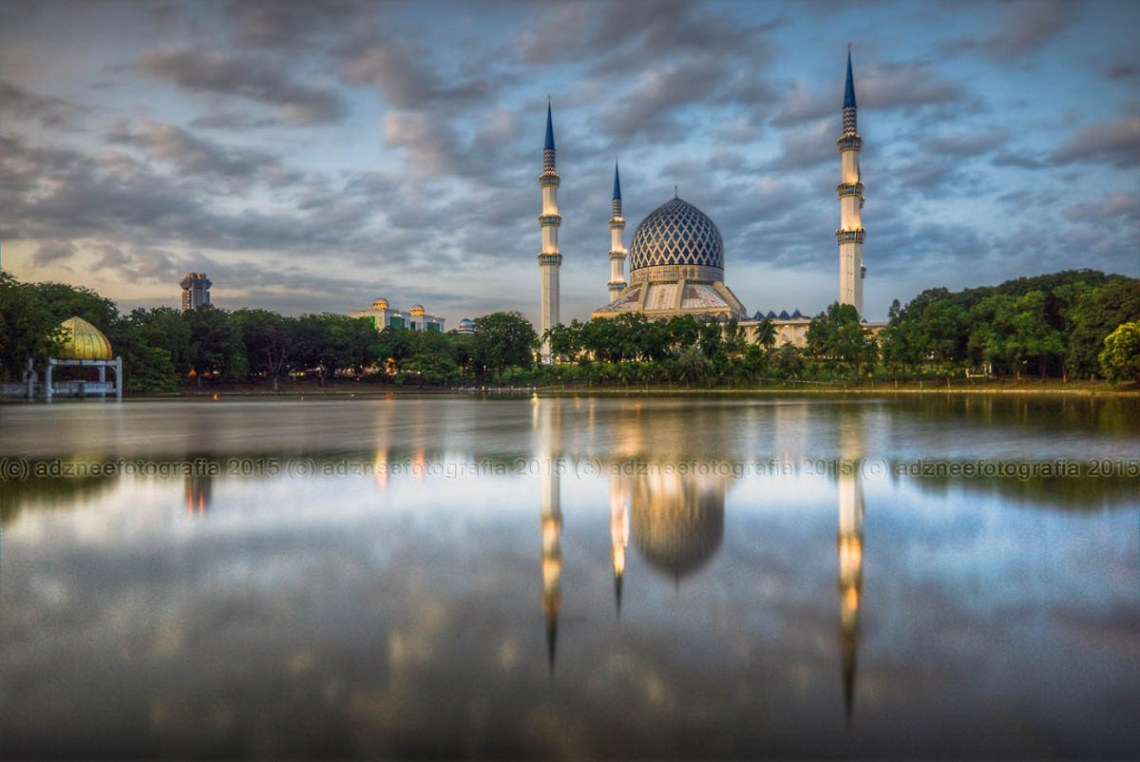Mosque: (512, 37, 863, 365)
